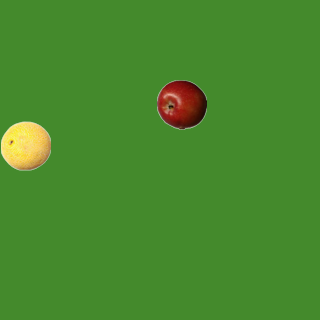Apple Braeburn: (156, 79, 206, 129)
Cantaloupe 1: (0, 120, 50, 170)
